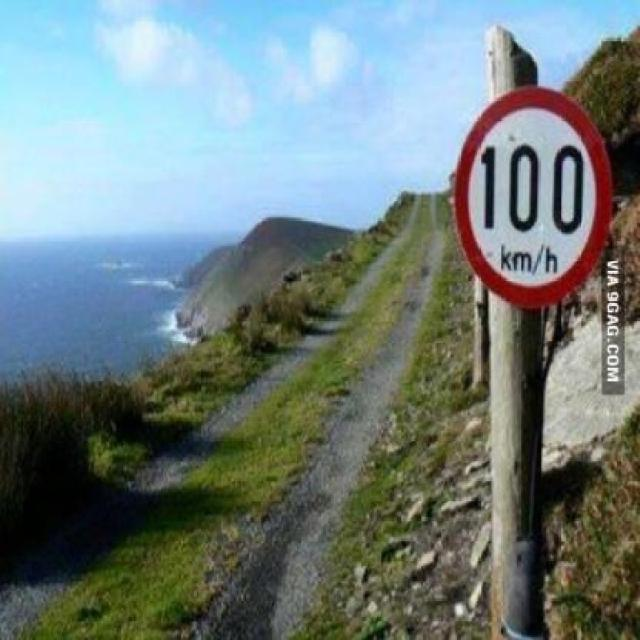forb_speed_over_100: (462, 88, 603, 304)
